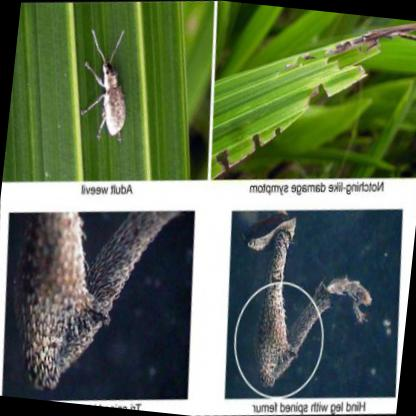ash weevil: (81, 27, 128, 135)
